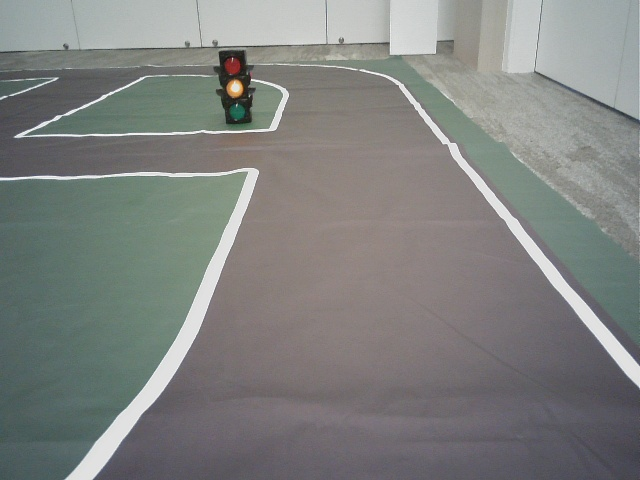yellow: (219, 54, 249, 122)
